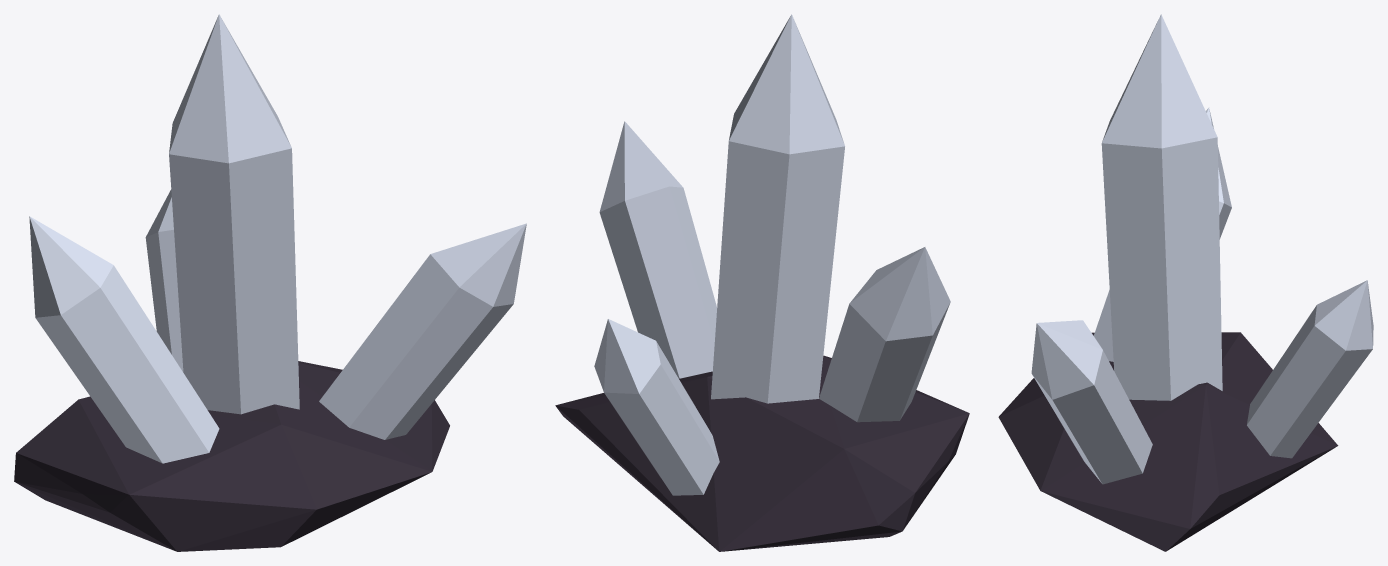
File: Crystal_ClusterSmall.obj
3 views of the same model, side by side, from view 1: azimuth 30°, elevation 25°; view 2: azimuth 150°, elevation 25°; view 3: azimuth 270°, elevation 25° (orthographic). The views are drawn at different scales.
Visible parts, largest first — view 1: Crystal_ClusterSmall; view 2: Crystal_ClusterSmall; view 3: Crystal_ClusterSmall.
Part boxes in pixels (x1,y1,x2,y2): Crystal_ClusterSmall: (14,14,526,551); Crystal_ClusterSmall: (555,14,969,551); Crystal_ClusterSmall: (998,14,1373,551).
Size of the model in its own units: 0.5882 by 0.6702 by 0.5121.
